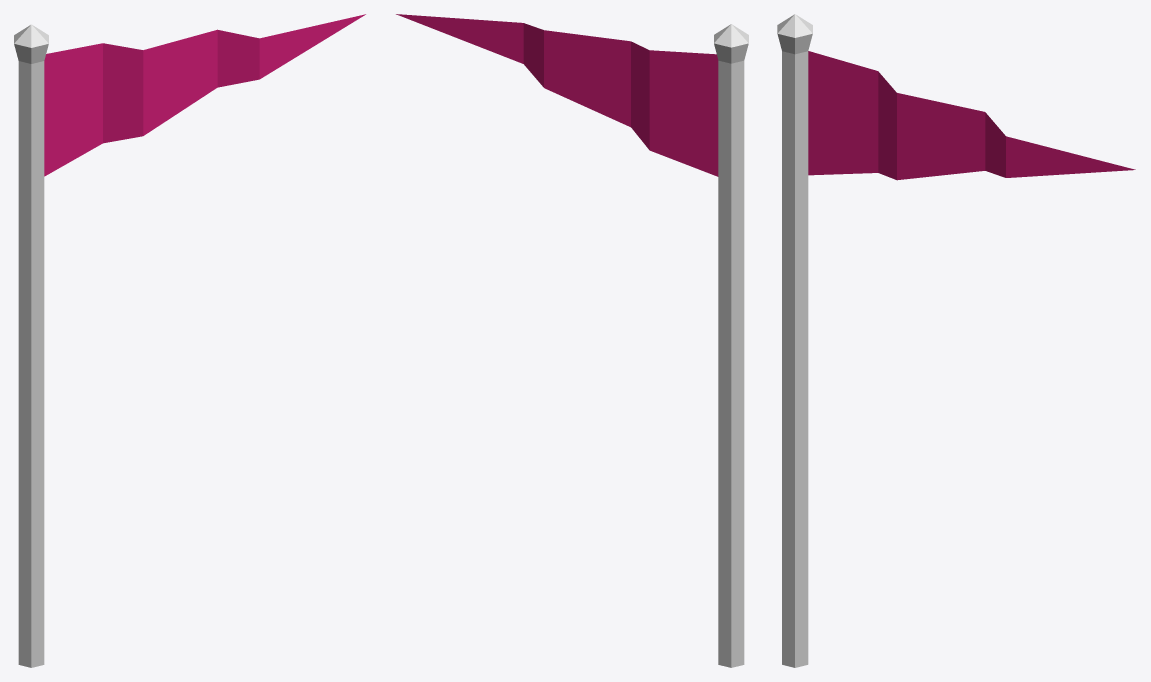
The model's file is flag.fbx.
The picture shows the model from 3 angles, left to right: view 1: azimuth 30°, elevation 25°; view 2: azimuth 150°, elevation 25°; view 3: azimuth 330°, elevation 25°; orthographic projection.
Parts seen in each view (by area): view 1: flag; view 2: flag; view 3: flag.
Boxes of the visible parts, <box> form: flag: <box>14,14,365,667</box>; flag: <box>396,14,748,667</box>; flag: <box>777,14,1135,667</box>.
Size of the model in its own units: 273 by 470 by 25.43.
